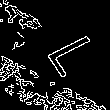L_NE: (39, 29, 107, 81)
